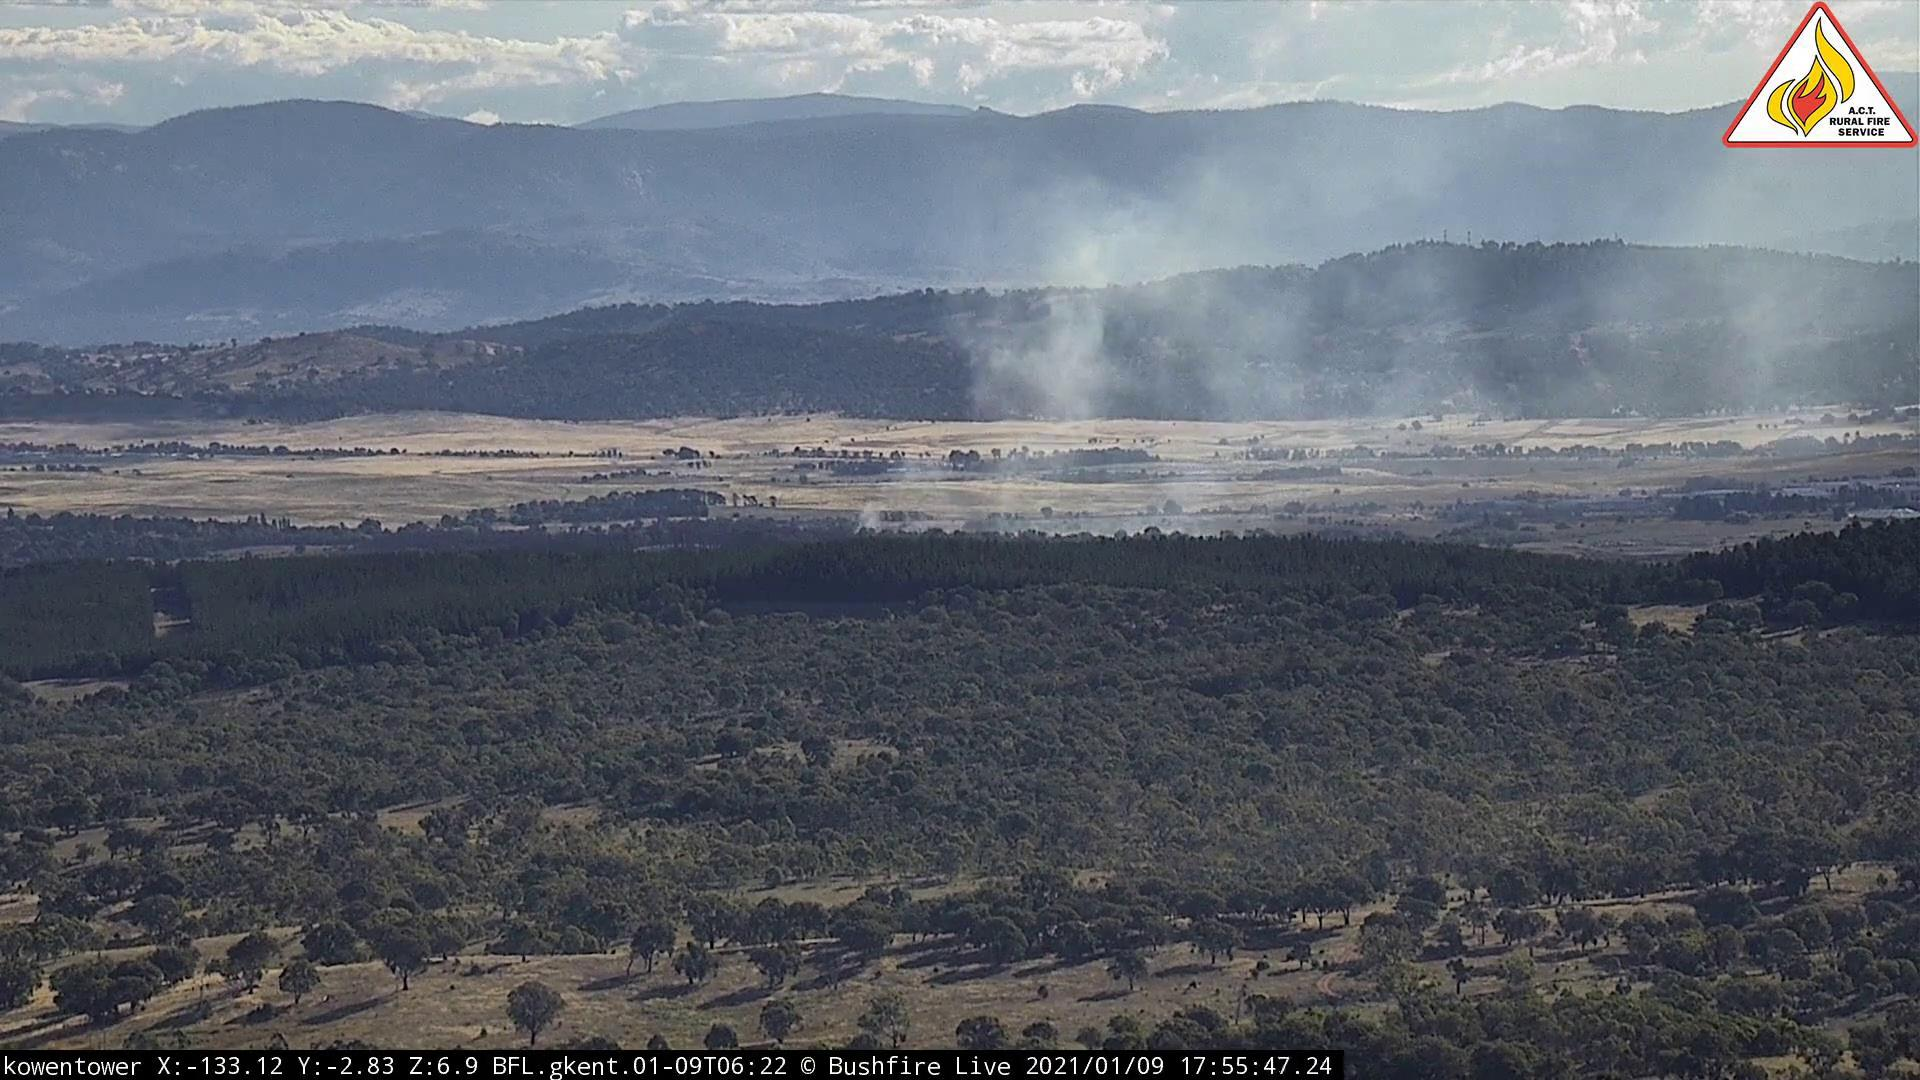Smoke: (866, 156, 1803, 541)
